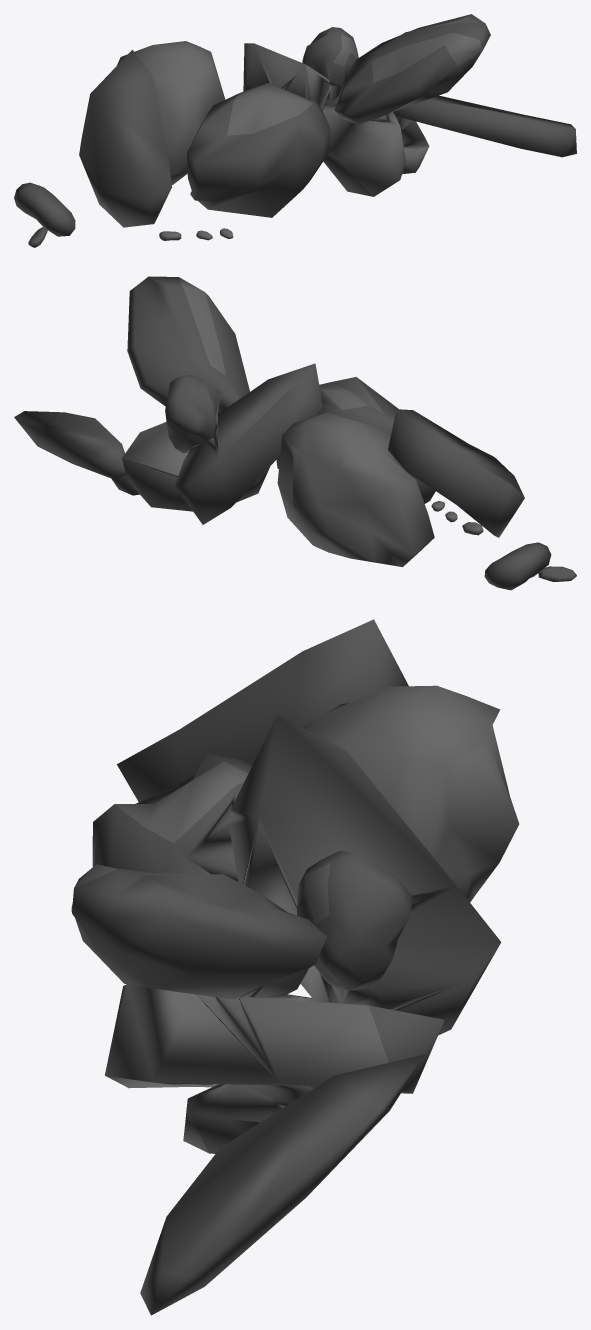
The picture shows the model from 3 angles, top to bottom: view 1: azimuth 30°, elevation 25°; view 2: azimuth 150°, elevation 25°; view 3: azimuth 270°, elevation 25°; orthographic projection. The views are drawn at different scales.
Parts seen in each view (by area): view 1: Blockade2; view 2: Blockade2; view 3: Blockade2.
Part boxes in pixels (x1,y1,x2,y2): Blockade2: (14, 14, 576, 247); Blockade2: (14, 276, 576, 590); Blockade2: (71, 619, 519, 1315).
Bounding box in the file's own units: 31.89 × 9.47 × 11.78.
1 material, 1 textured.
